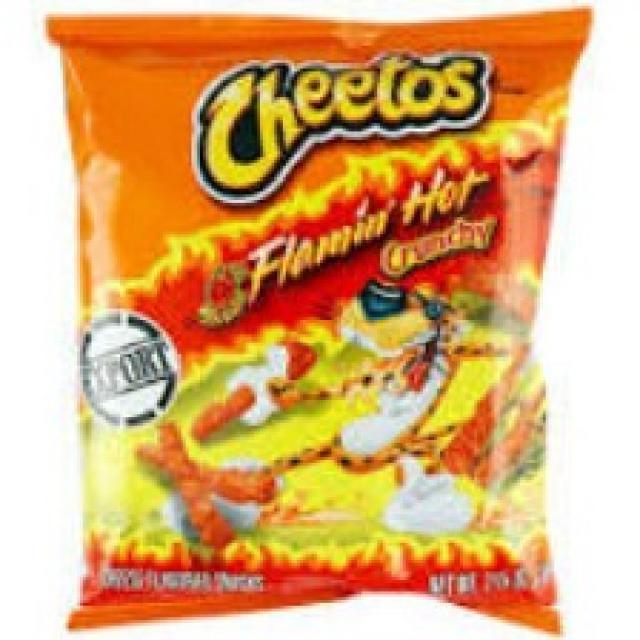plastic: (42, 6, 574, 635)
